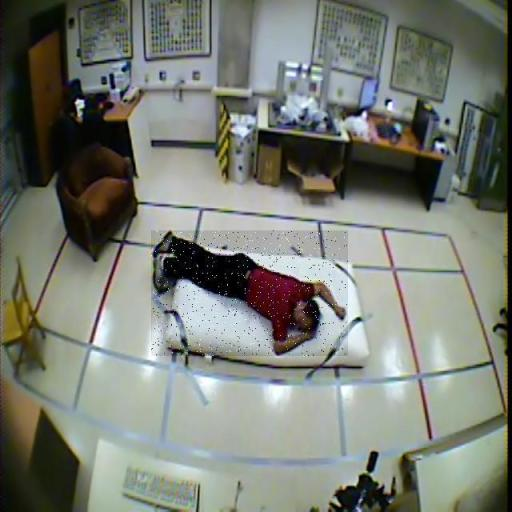Fall: (151, 230, 348, 356)
